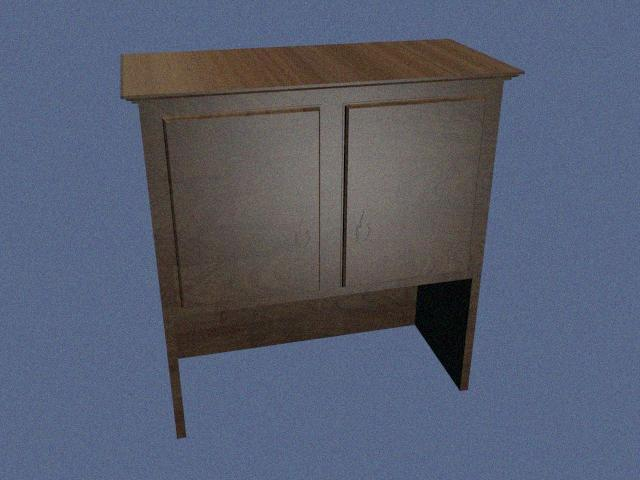cabinet_door: (172, 110, 320, 298), (348, 98, 478, 280)
